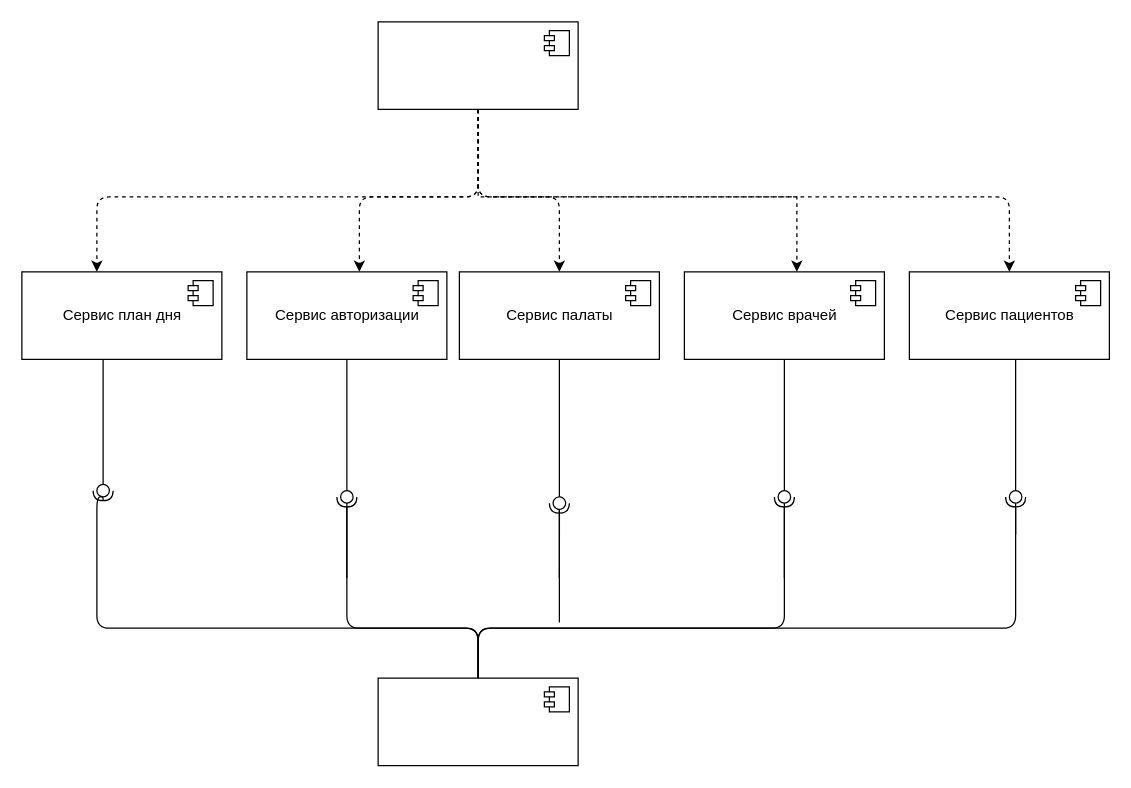
The diagram is 1131 pixels wide and 788 high, and some of its shapes have lost their labels. Here are the shapes that lost their labels. From the top down, the centre of each, then its label:
At (477,65): "Компонент транспортного слоя".
At (477,721): "Компонент доступа к данным".
